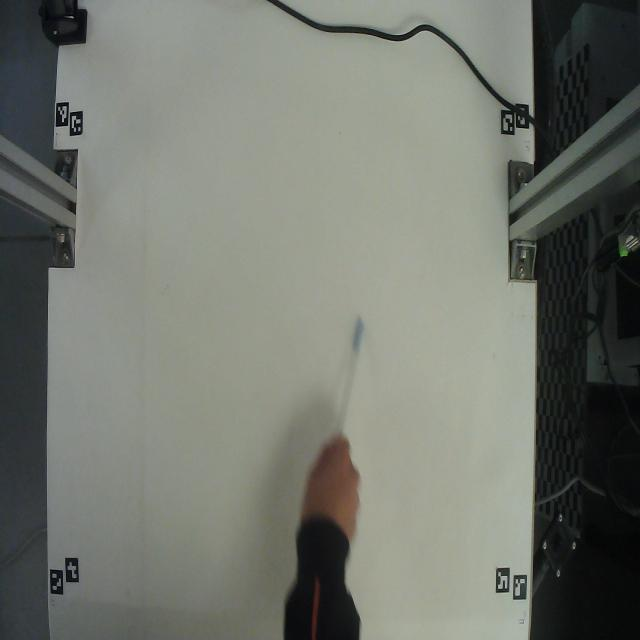NoPres: (316, 290, 381, 471)
